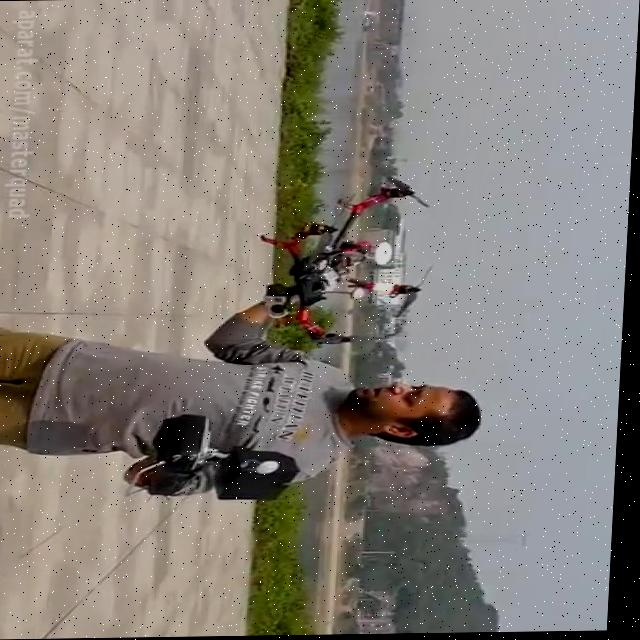drone: (256, 167, 446, 349)
